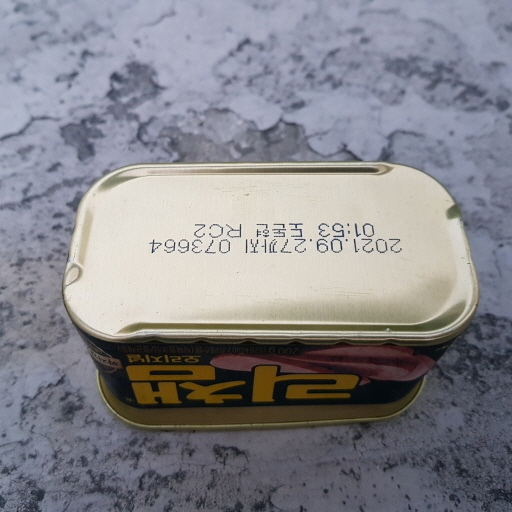Metal_2: (61, 158, 481, 435)
